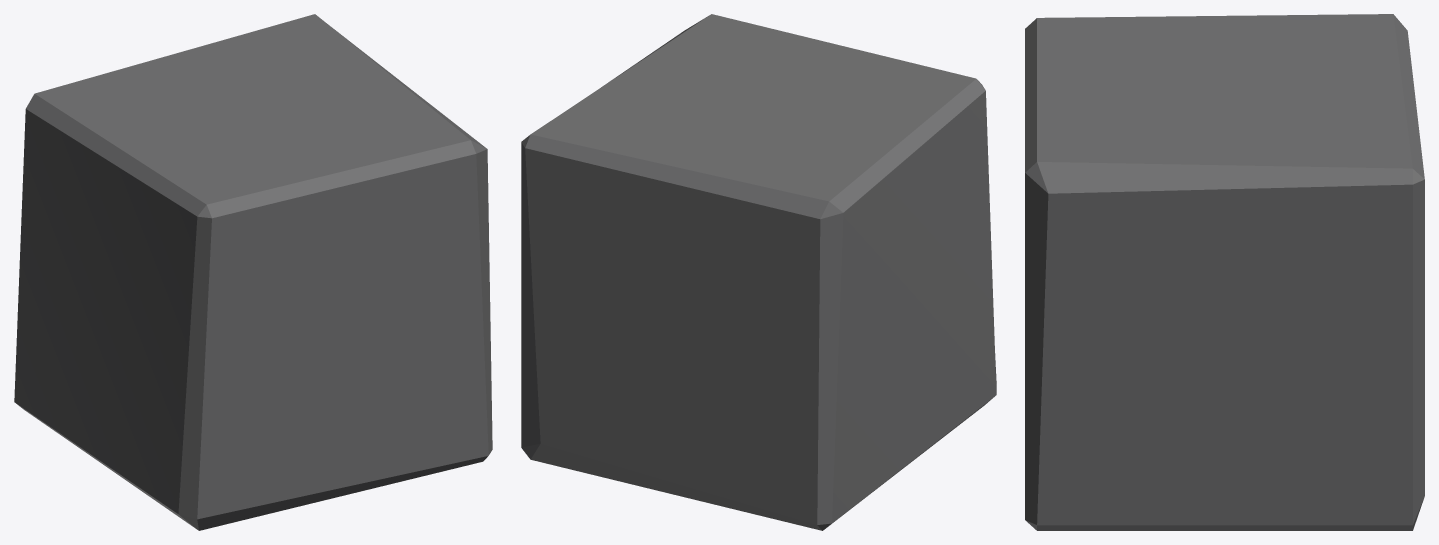
The model's file is Stone_3.fbx.
The picture shows the model from 3 angles, left to right: view 1: azimuth 30°, elevation 25°; view 2: azimuth 150°, elevation 25°; view 3: azimuth 270°, elevation 25°; orthographic projection. The views are drawn at different scales.
Parts seen in each view (by area): view 1: Stone_3; view 2: Stone_3; view 3: Stone_3.
Boxes of the visible parts, x1,y1,x2,y2 form: Stone_3: (14, 14, 492, 530); Stone_3: (521, 14, 996, 530); Stone_3: (1025, 14, 1424, 530).
Size of the model in its own units: 12 by 12 by 12.
